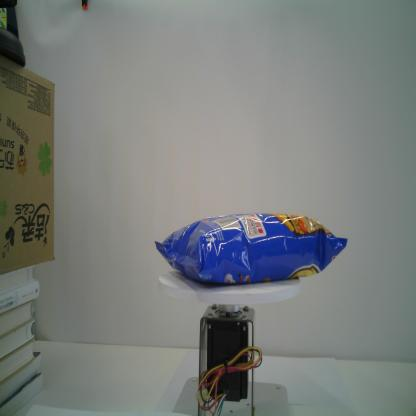Puffed Food: (154, 211, 348, 286)
